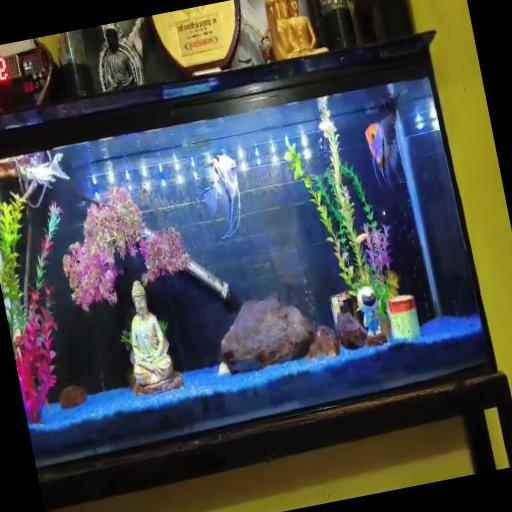Fish: (364, 91, 403, 191), (200, 154, 240, 238), (365, 115, 398, 191), (25, 153, 69, 187), (355, 233, 368, 245)
